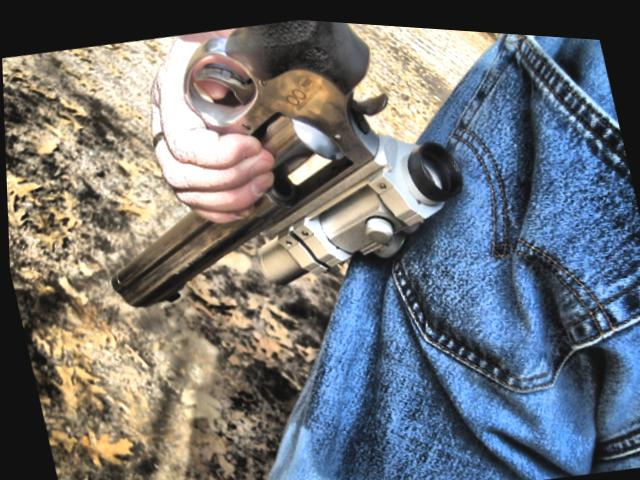pistol: (54, 3, 481, 327)
